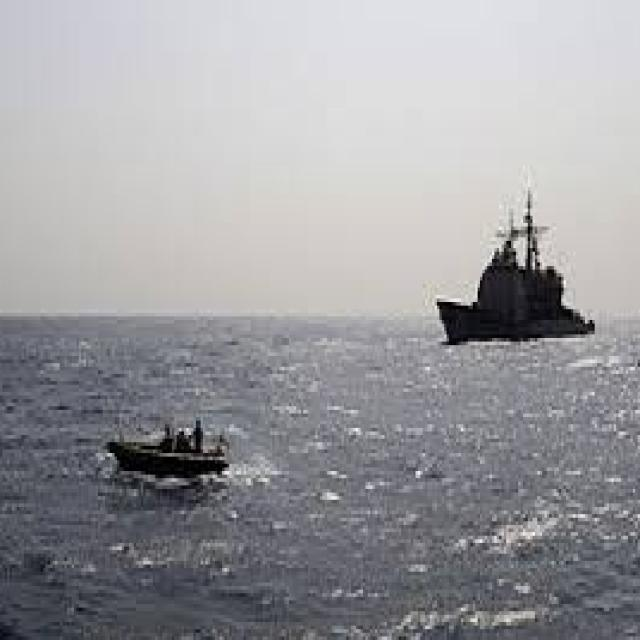navalvessels: (433, 197, 603, 344)
